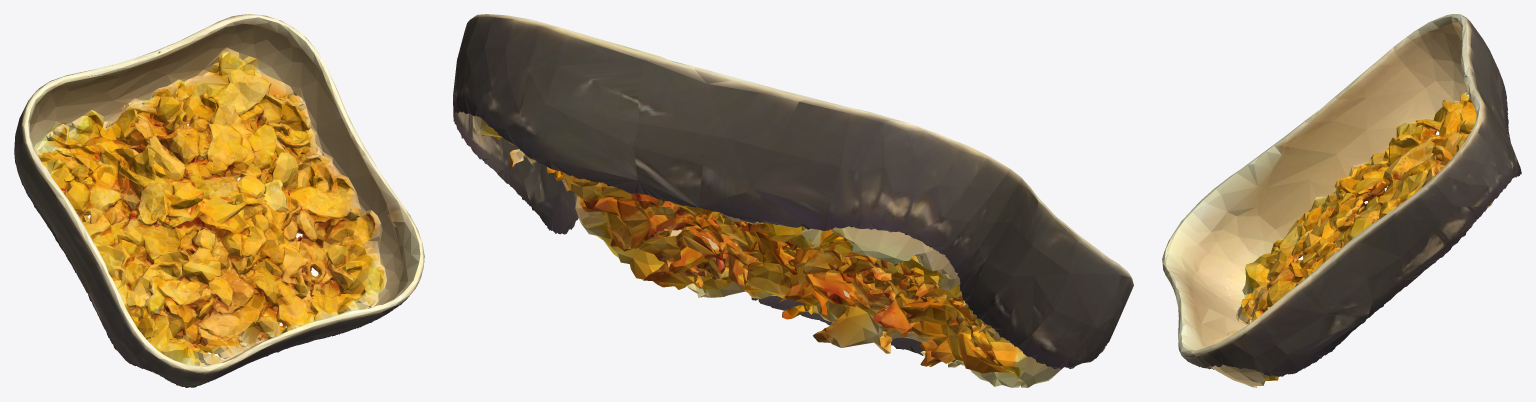
The model's file is Cornflakes.fbx.
3 views of the same model, side by side, from view 1: azimuth 30°, elevation 25°; view 2: azimuth 150°, elevation 25°; view 3: azimuth 270°, elevation 25° (orthographic). The views are drawn at different scales.
Parts seen in each view (by area): view 1: Cornflakes_tex_high; view 2: Cornflakes_tex_high; view 3: Cornflakes_tex_high.
Part boxes in pixels (left/top/right/bottom): Cornflakes_tex_high: left=14, top=14, right=424, bottom=387; Cornflakes_tex_high: left=453, top=14, right=1133, bottom=387; Cornflakes_tex_high: left=1162, top=14, right=1521, bottom=387.
Bounding box in the file's own units: 16.08 × 11.9 × 13.8.
